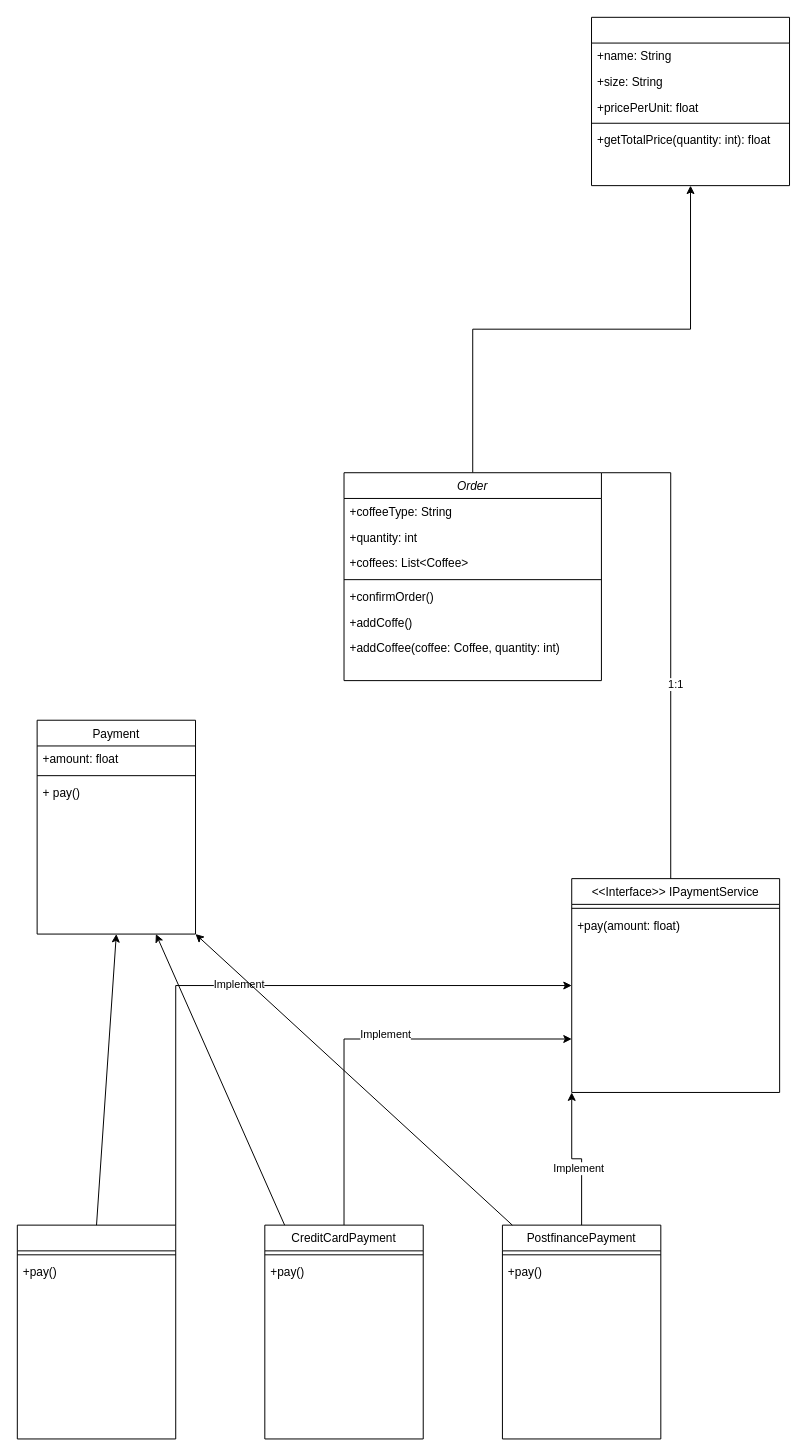
Some shapes in this 807 by 1456 pixel diagram are drawn without their labels. The box of each missing label's shape, as (x1, y1, x2, y2) in pixels:
Coffee: (591, 16, 790, 186)
DebitCardPayment: (16, 1224, 176, 1439)
